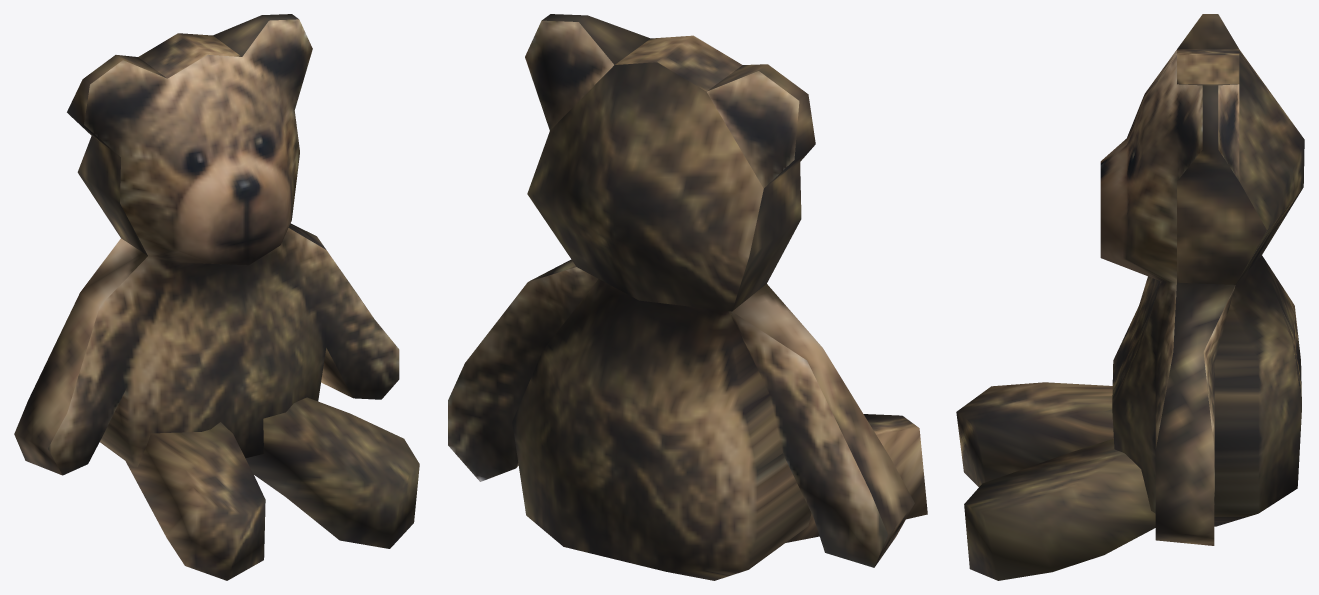
Rendered from bear.fbx.
3 renders of one model, left to right at view 1: azimuth 30°, elevation 25°; view 2: azimuth 150°, elevation 25°; view 3: azimuth 270°, elevation 25°, orthographic. The views are drawn at different scales.
Visible parts, largest first — view 1: bear; view 2: bear; view 3: bear.
Part boxes in pixels (x1=…): bear: x1=14, y1=14, x2=419, y2=580; bear: x1=448, y1=14, x2=927, y2=580; bear: x1=956, y1=14, x2=1304, y2=580.
Bounding box in the file's own units: 88.37 × 106 × 70.31.
1 material, 1 textured.
